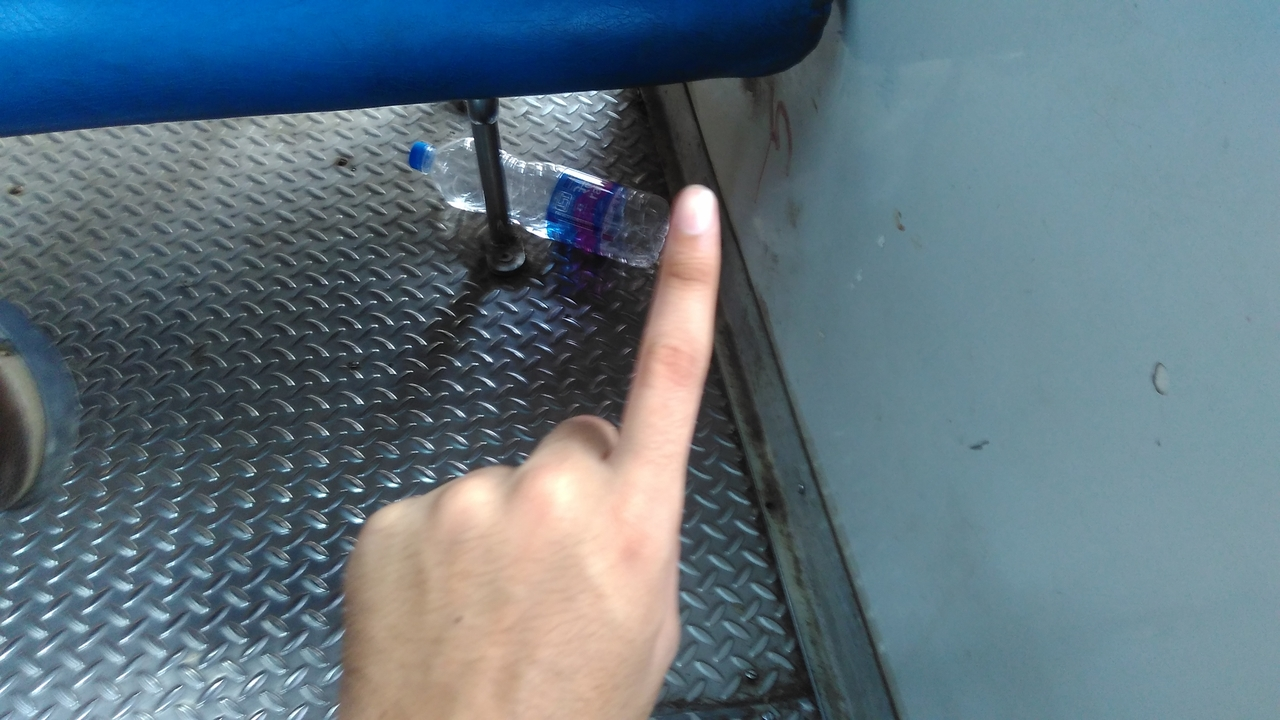fingertip: (662, 174, 726, 248)
